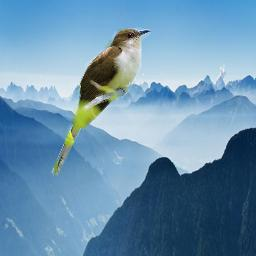Cuckoo: (51, 27, 151, 176)
